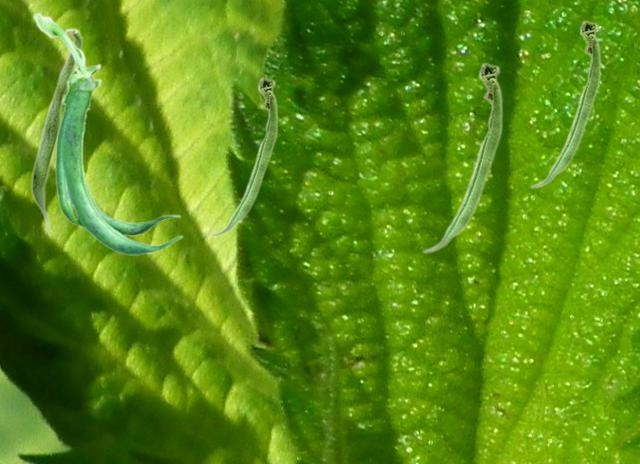french_bean: (33, 12, 182, 255), (421, 61, 502, 253), (529, 19, 600, 188), (210, 76, 277, 236), (30, 27, 82, 233)
